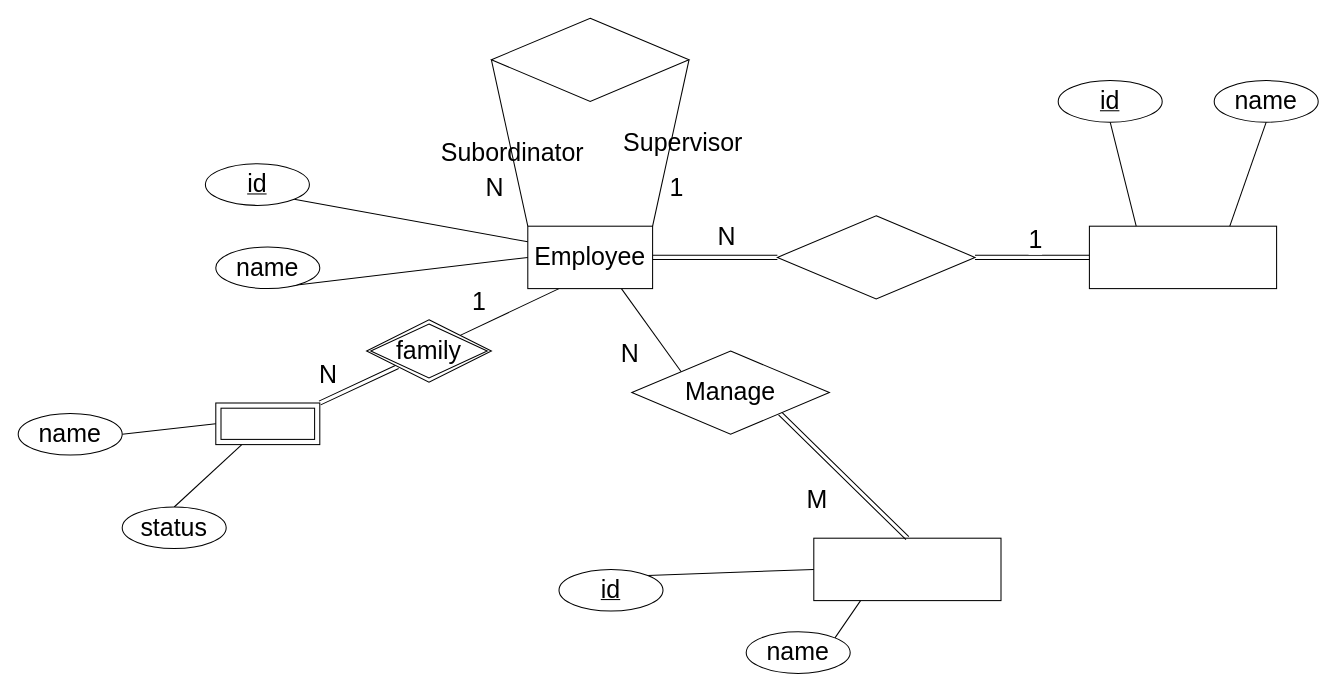
The diagram is 1336 pixels wide and 692 high, and some of its shapes have lost their labels. The shapes that lost their labels are listed below. From the top down, each one's centre as x and y in pixels, then its label:
At (x=589, y=59): "Report_To".
At (x=875, y=257): "Work_in".
At (x=1182, y=257): "Department".
At (x=267, y=423): "Person".
At (x=907, y=569): "Project".
